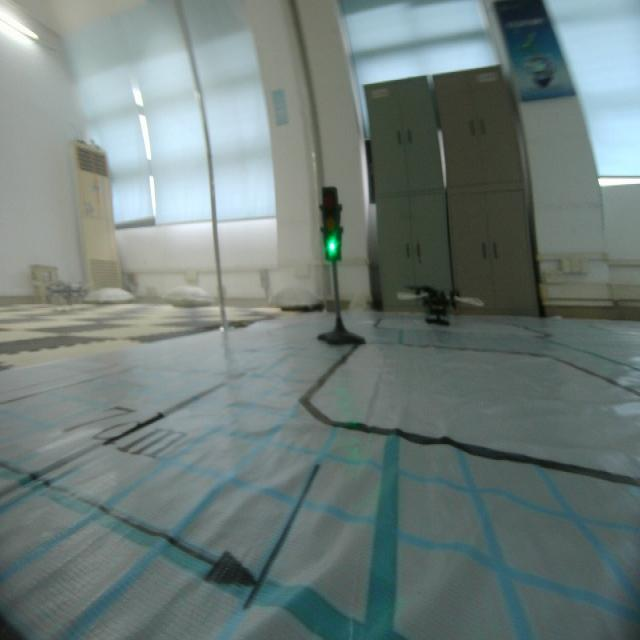green: (318, 191, 346, 265)
